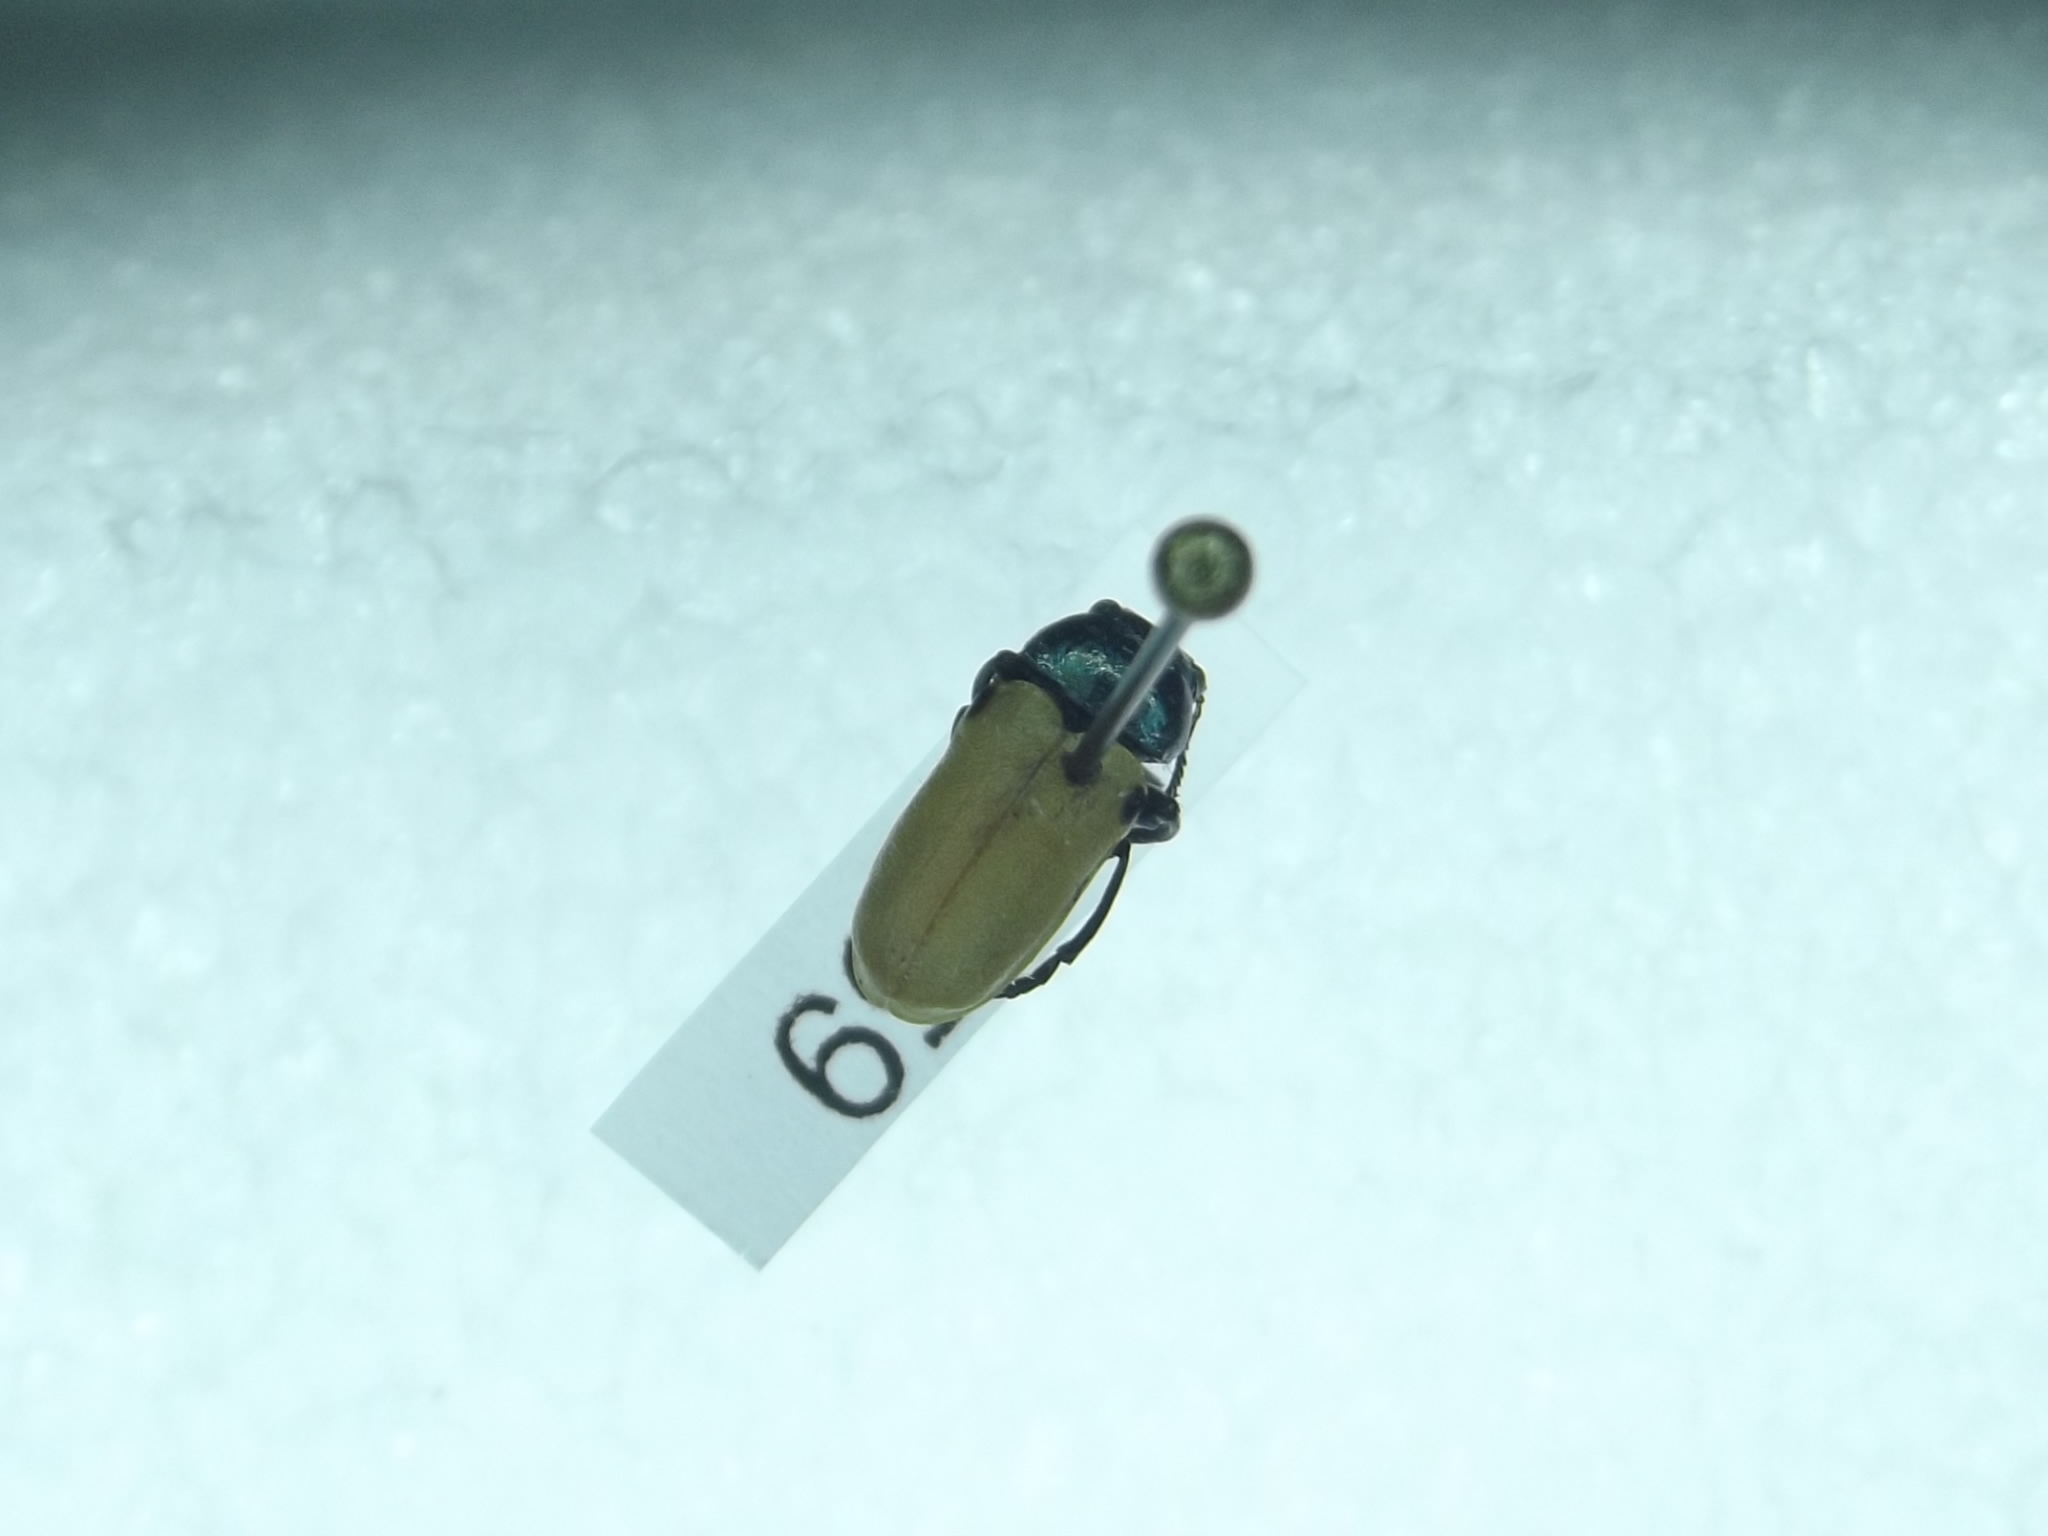Labidostomis_longimana: (826, 587, 1205, 1047)
